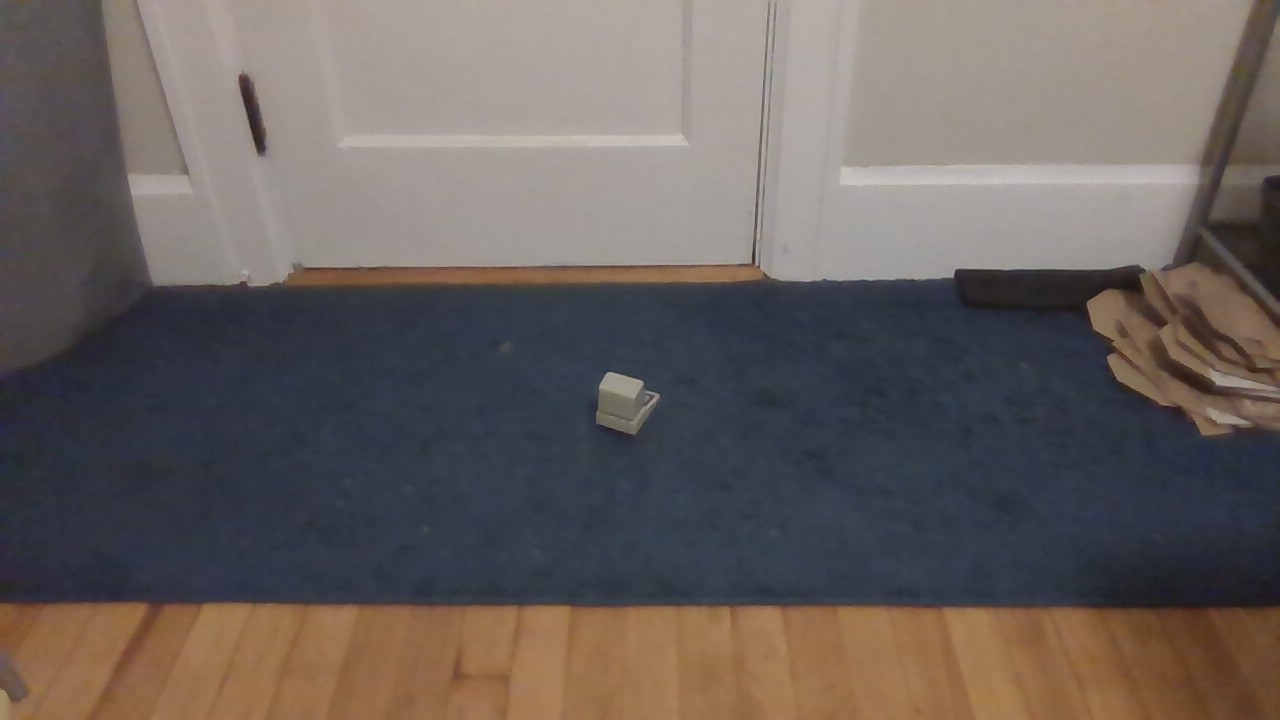Toy: (585, 357, 663, 446)
